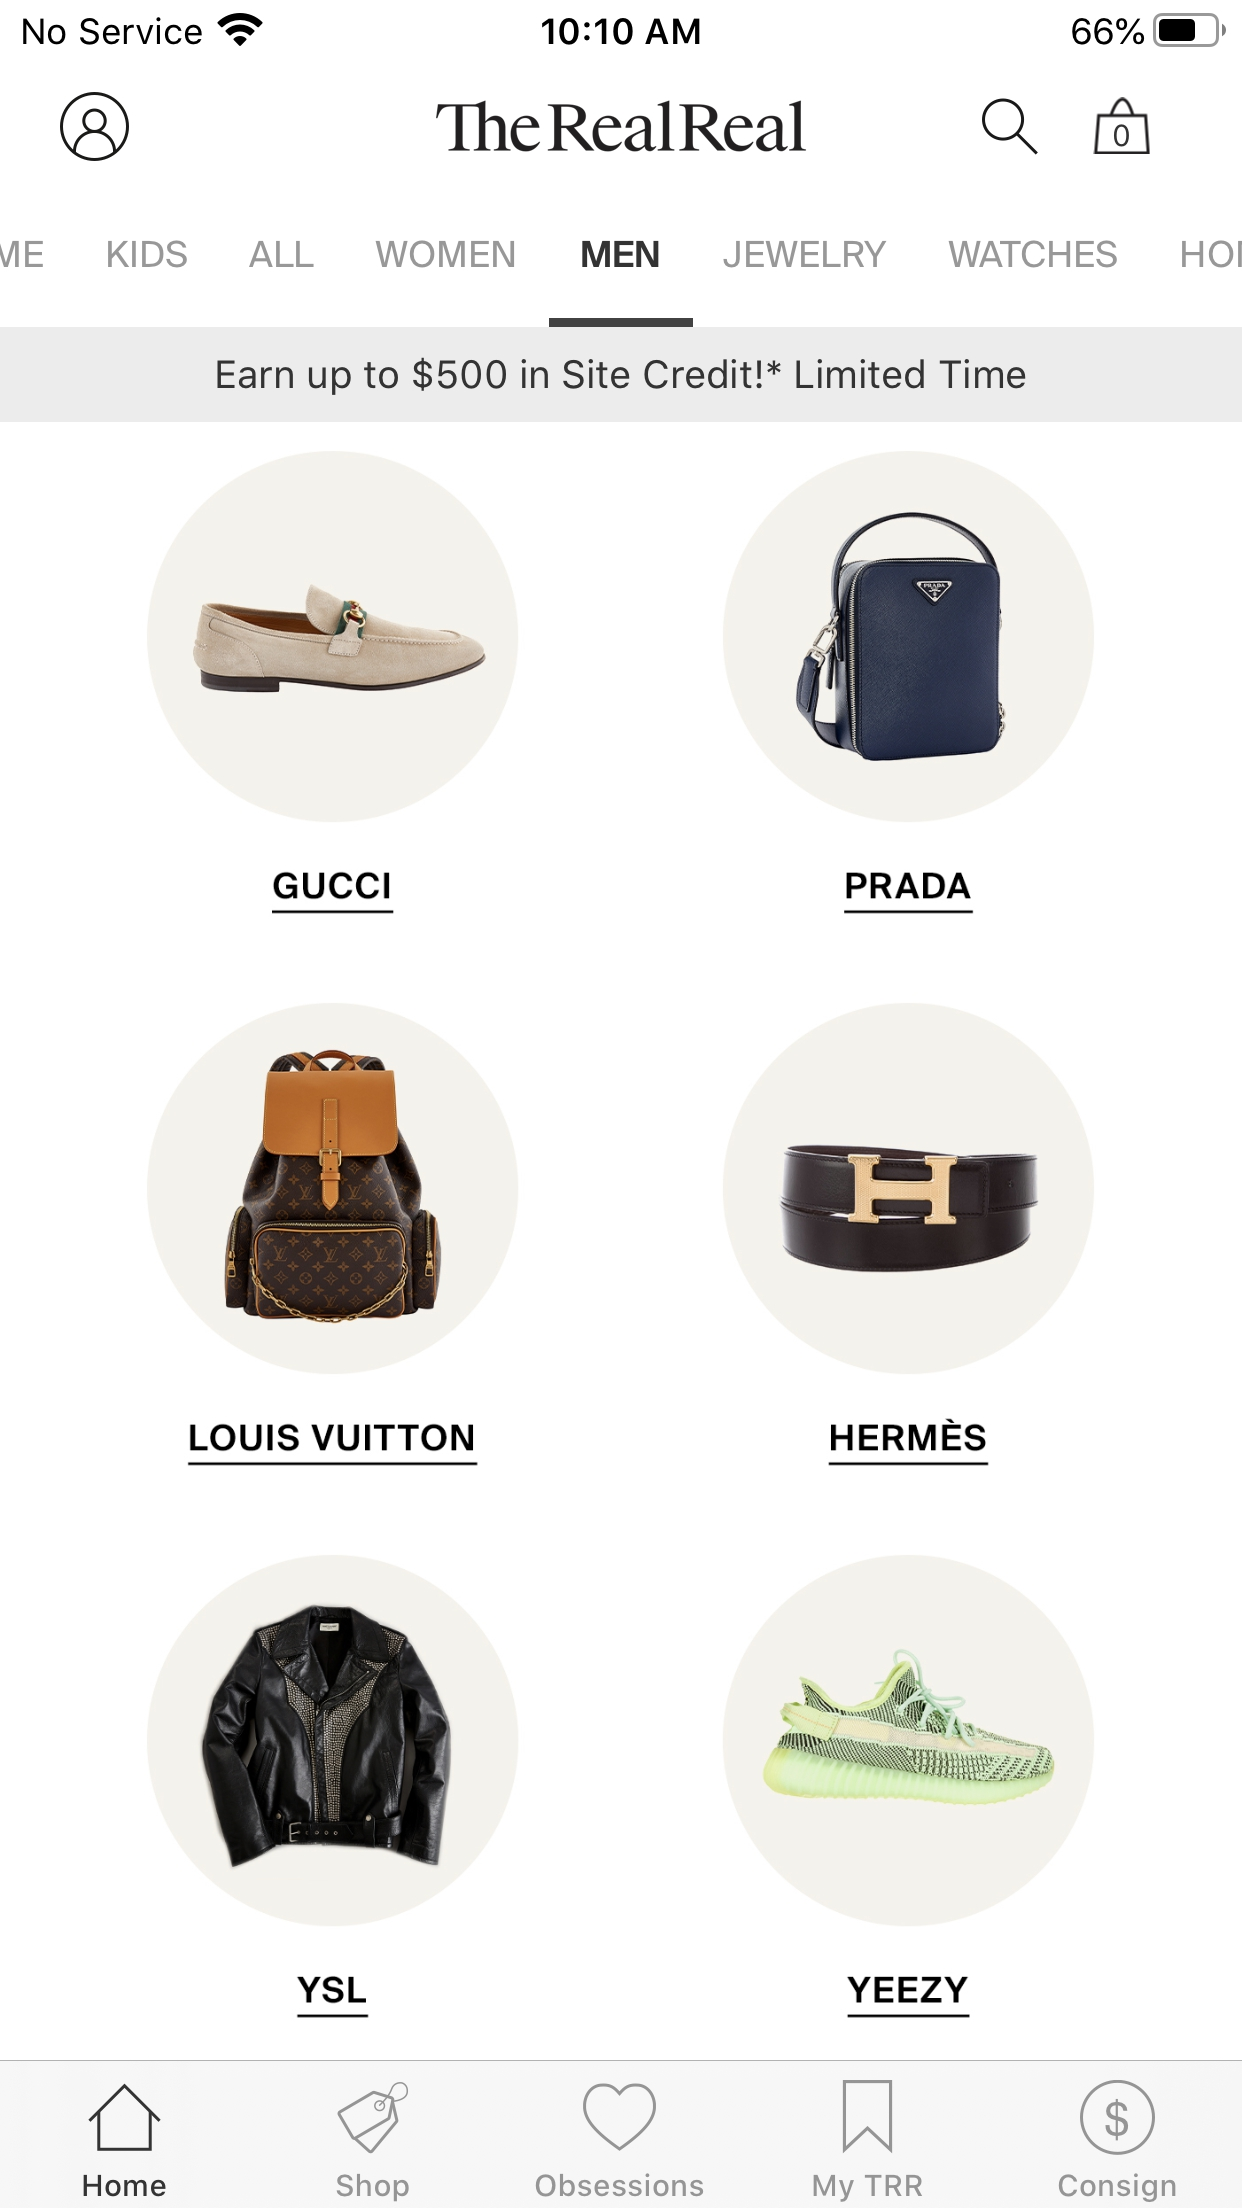Icon: (1080, 2081, 1156, 2153), (337, 2082, 408, 2153), (582, 2084, 657, 2150), (88, 2084, 161, 2150), (61, 93, 129, 161), (842, 2081, 893, 2153), (1093, 99, 1149, 155), (983, 99, 1037, 155)
Image: (200, 1604, 450, 1865), (224, 1049, 441, 1324), (796, 513, 1005, 761), (763, 1648, 1054, 1805), (778, 1143, 1039, 1272), (193, 584, 485, 693)
Text: (217, 356, 1027, 394), (437, 100, 805, 152), (190, 1422, 475, 1451), (831, 1418, 986, 1451), (948, 240, 1118, 268), (723, 240, 887, 268), (375, 240, 516, 268), (535, 2173, 704, 2196), (846, 872, 971, 899), (273, 870, 390, 899), (1059, 2172, 1175, 2200), (848, 1976, 969, 2003), (813, 2175, 922, 2202), (108, 240, 187, 268), (582, 240, 660, 267), (337, 2173, 409, 2202), (296, 1976, 365, 2003), (83, 2175, 165, 2197), (249, 240, 314, 267)
UpperTaskBar: (2, 2, 1242, 49)
